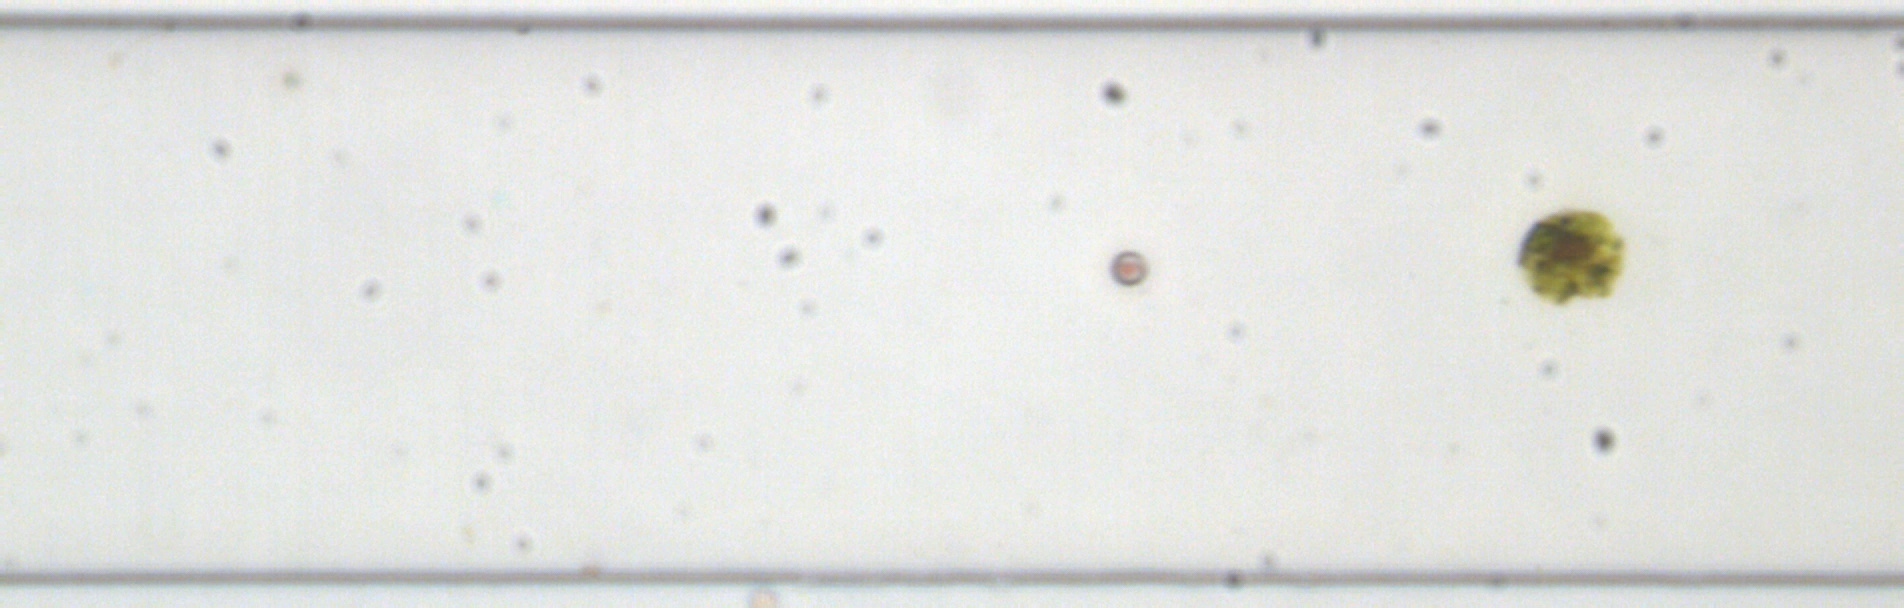Chlorella: (278, 68, 301, 89)
Haematococcus: (1513, 203, 1625, 308)
Porphyridium: (1107, 248, 1151, 289)
